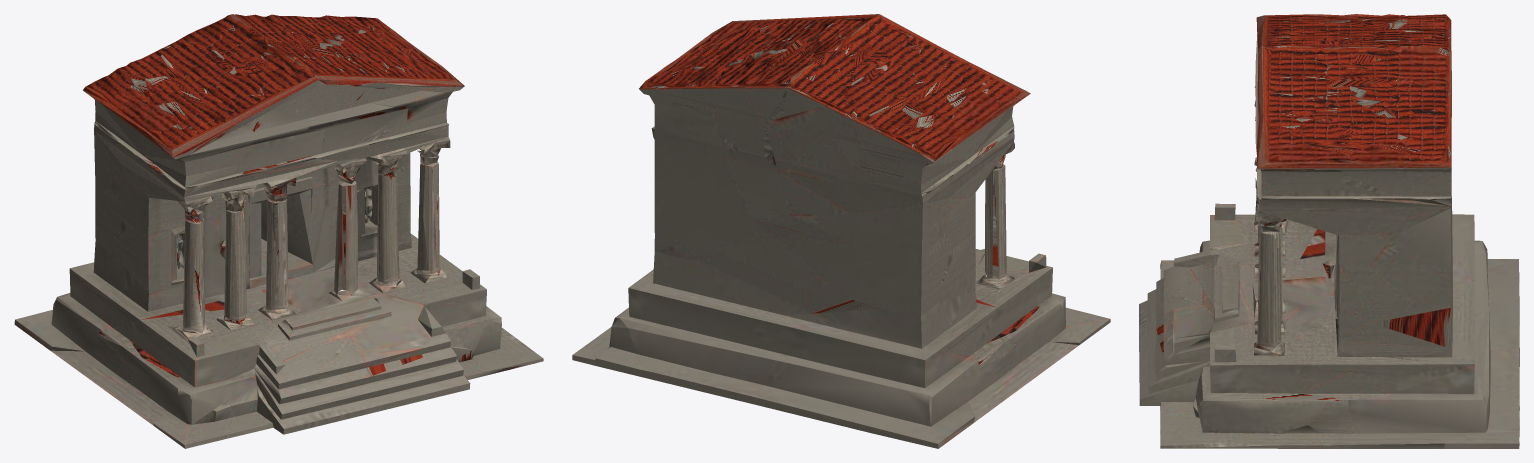
Rendered from templo.glb.
3 views of the same model, side by side, from view 1: azimuth 30°, elevation 25°; view 2: azimuth 150°, elevation 25°; view 3: azimuth 270°, elevation 25° (orthographic). The views are drawn at different scales.
Visible parts, largest first — view 1: templo; view 2: templo; view 3: templo.
Part boxes in pixels (bbox=[...]): templo: bbox=[14, 14, 543, 448]; templo: bbox=[572, 14, 1110, 448]; templo: bbox=[1139, 14, 1519, 448].
Bounding box in the file's own units: 24 × 18.8 × 20.87.
1 material, 1 textured.
